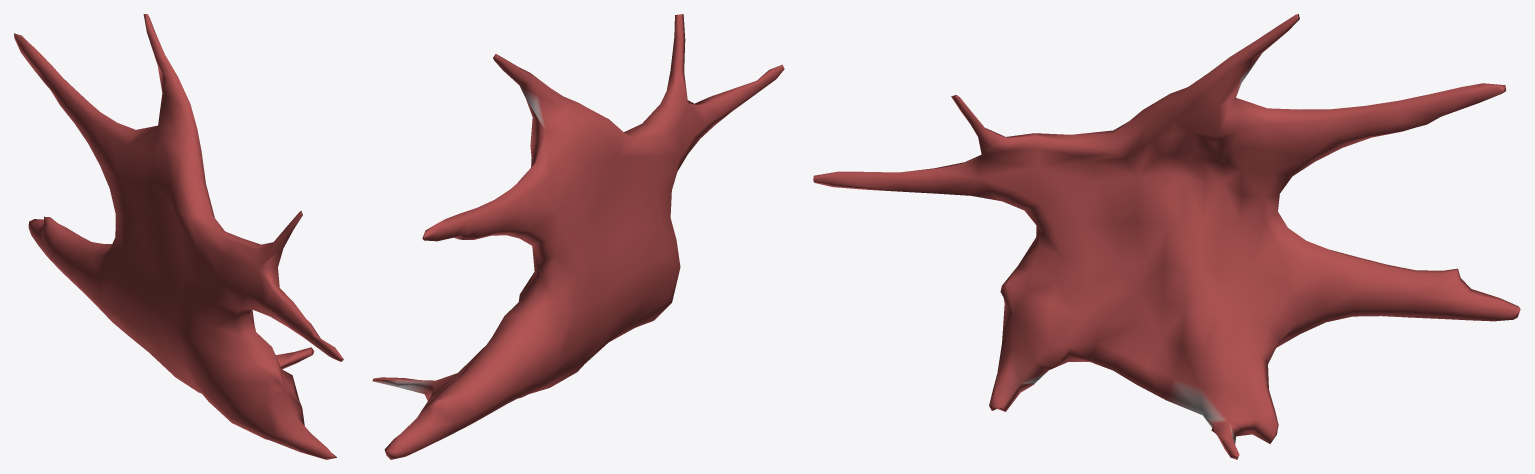
File: FLESH_A2_lp.fbx
The picture shows the model from 3 angles, left to right: view 1: azimuth 30°, elevation 25°; view 2: azimuth 150°, elevation 25°; view 3: azimuth 270°, elevation 25°; orthographic projection. The views are drawn at different scales.
Visible parts, largest first — view 1: Flesh_A2_Low; view 2: Flesh_A2_Low; view 3: Flesh_A2_Low.
Part boxes in pixels (left/top/right/bottom): Flesh_A2_Low: left=14, top=14, right=343, bottom=459; Flesh_A2_Low: left=372, top=14, right=784, bottom=459; Flesh_A2_Low: left=813, top=14, right=1520, bottom=459.
Bounding box in the file's own units: 152 × 271 × 449.
